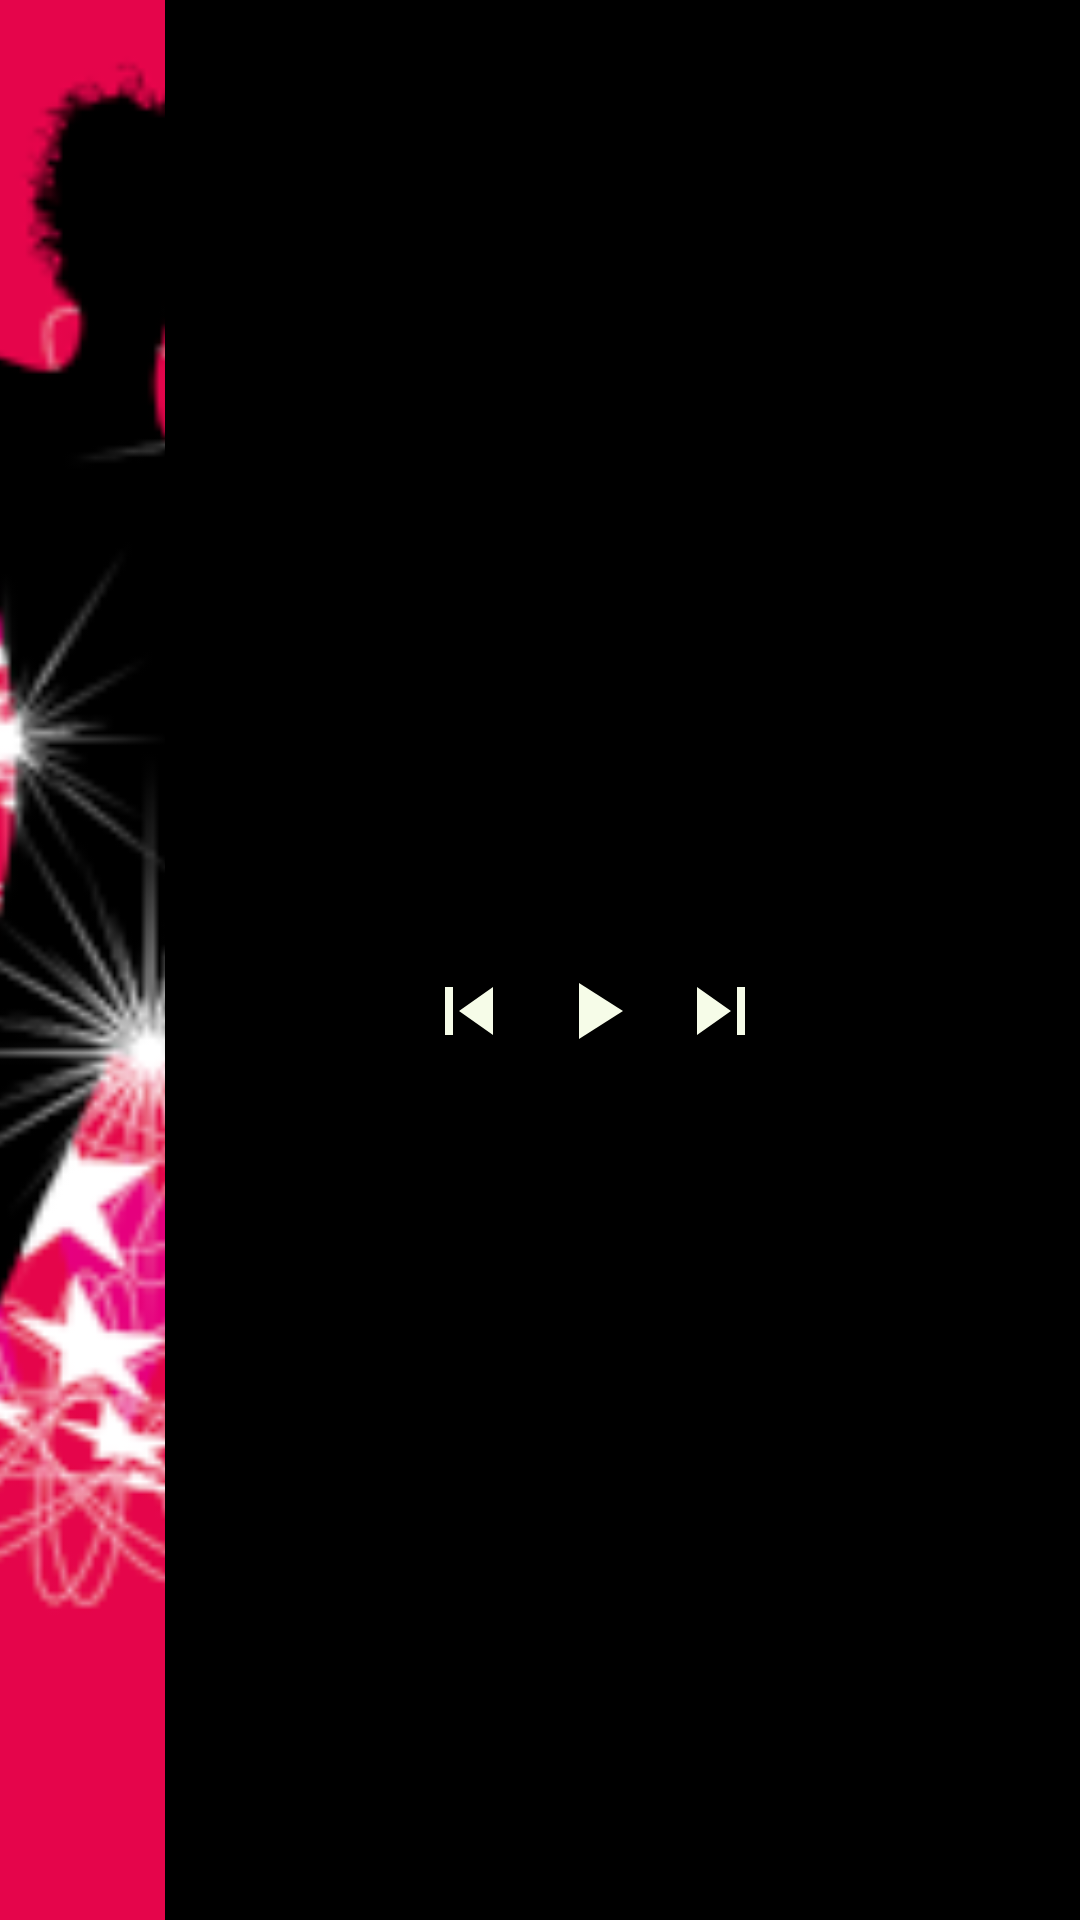

Icons on this 1080 x 1920 Android screen, each with the point to tap as (x=x, y=y):
next: (x=721, y=1011)
play: (x=601, y=1011)
previous: (x=469, y=1011)
